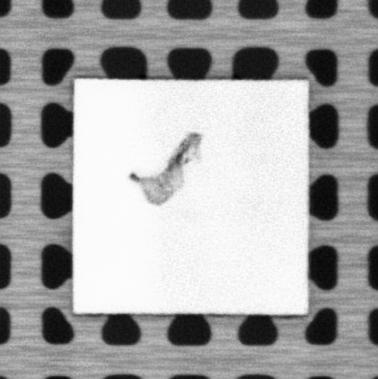DIE_INK: (126, 132, 203, 208)
